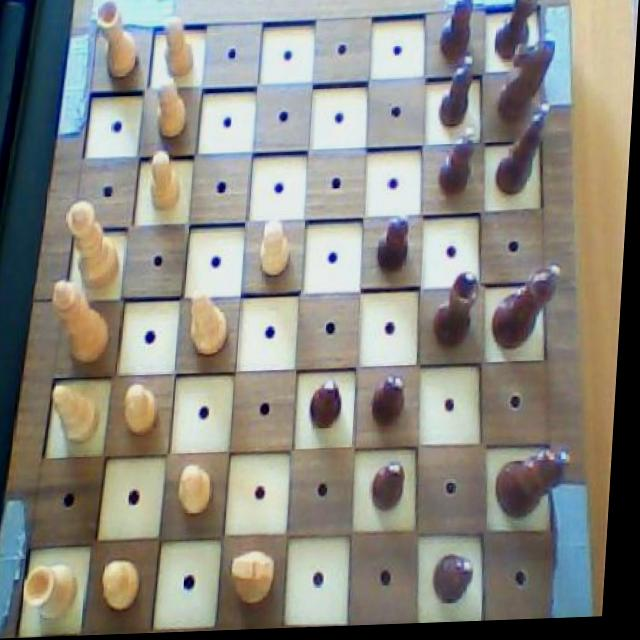bishop: (494, 102, 553, 203)
black-bishop: (498, 445, 581, 529)
black-king: (494, 36, 559, 131)
black-knight: (439, 125, 483, 200), (439, 56, 478, 135), (437, 0, 477, 70), (437, 553, 486, 610), (378, 212, 419, 280), (377, 374, 417, 433), (375, 460, 416, 517), (312, 380, 353, 436)
black-pawn: (491, 263, 567, 357)
black-queen: (434, 270, 482, 355), (490, 0, 543, 67)
black-rook: (187, 283, 237, 366), (49, 380, 108, 450)
white-bishop: (51, 276, 122, 370)
white-king: (236, 546, 286, 617)
white-knight: (104, 554, 153, 619), (147, 147, 188, 216), (258, 217, 299, 284), (160, 13, 200, 81), (153, 76, 191, 145), (126, 382, 167, 440), (182, 462, 223, 519)
white-pawn: (62, 194, 129, 296)
white-queen: (92, 0, 146, 85), (27, 558, 88, 623)
